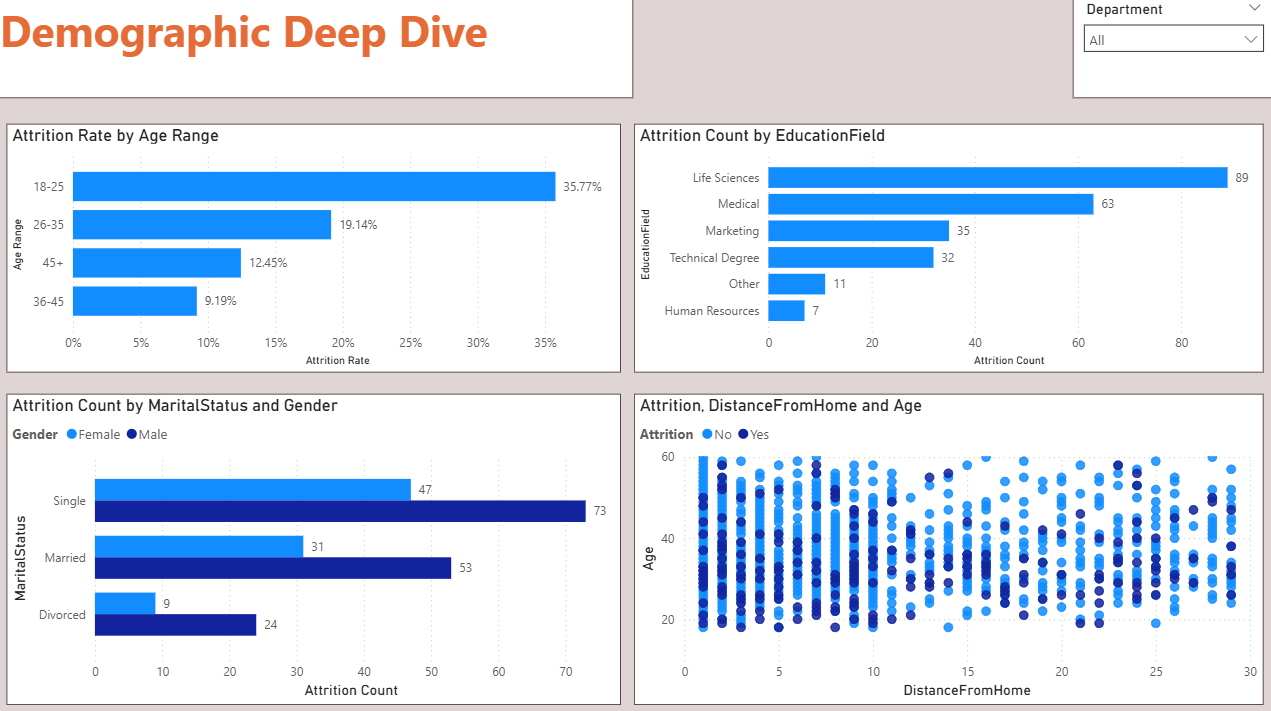

Layout of this report page (visuals, bound fields, positions):
{"tool":"powerbi","page":{"name":"Demographic Deep Dive","canvas":[1280,720],"ordinal":1},"visuals":[{"type":"barChart","fields":{"Category":["HR-Employee-Attrition.Age Range"],"Y":["HR-Employee-Attrition.Attrition Percentage"]},"box":[0,160.5,639.5,248.4],"z":0},{"type":"clusteredBarChart","fields":{"Y":["HR-Employee-Attrition.Attrition Count"],"Category":["HR-Employee-Attrition.MaritalStatus"],"Series":["HR-Employee-Attrition.Gender"]},"box":[0,408.9,639.5,311.5],"z":1},{"type":"scatterChart","fields":{"X":["HR-Employee-Attrition.DistanceFromHome"],"Y":["HR-Employee-Attrition.Age"],"Series":["HR-Employee-Attrition.Attrition"]},"box":[639.5,408.9,640.8,311.5],"z":2},{"type":"barChart","fields":{"Category":["HR-Employee-Attrition.EducationField"],"Y":["HR-Employee-Attrition.Attrition Count"]},"box":[639.5,160.5,640.8,248.4],"z":3},{"type":"slicer","fields":{"Values":["HR-Employee-Attrition.Department"]},"box":[1078.6,0,201.7,102.9],"z":4},{"type":"textbox","box":[0,0,639,150],"z":5}]}

Visuals, with their boxes in screenshot pixels (x1, y1, x2, y2), scaled from the page's 1280x720 canvas onto the 1271x711 screenshot:
barChart - HR-Employee-Attrition.Age Range x HR-Employee-Attrition.Attrition Percentage: [0, 158, 635, 404]
clusteredBarChart - HR-Employee-Attrition.Attrition Count x HR-Employee-Attrition.MaritalStatus: [0, 404, 635, 710]
scatterChart - HR-Employee-Attrition.DistanceFromHome x HR-Employee-Attrition.Age: [635, 404, 1270, 710]
barChart - HR-Employee-Attrition.EducationField x HR-Employee-Attrition.Attrition Count: [635, 158, 1270, 404]
slicer - HR-Employee-Attrition.Department: [1071, 0, 1270, 102]
textbox: [0, 0, 635, 148]
